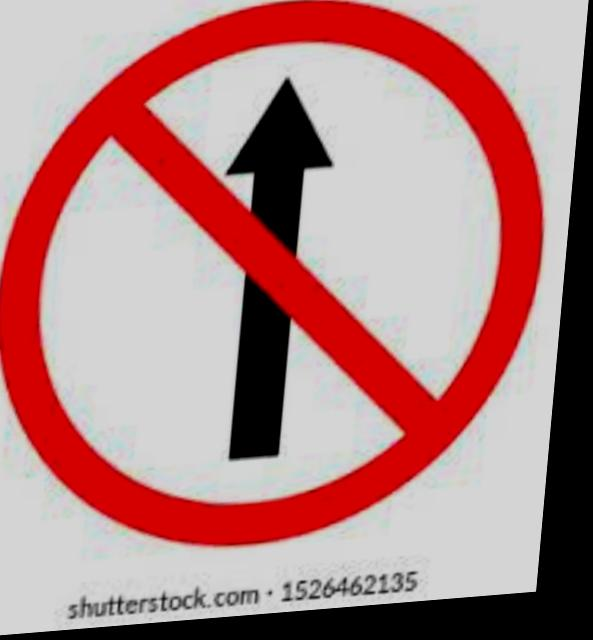not_go_straight: (0, 0, 579, 577)
